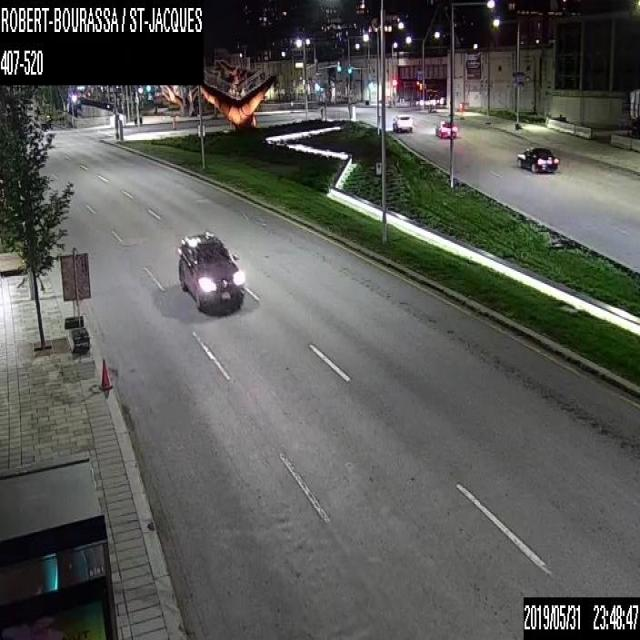construction: (100, 355, 110, 388), (456, 100, 463, 113)
vehicle: (176, 230, 243, 310), (515, 144, 560, 172), (391, 112, 414, 132), (434, 119, 457, 137)
